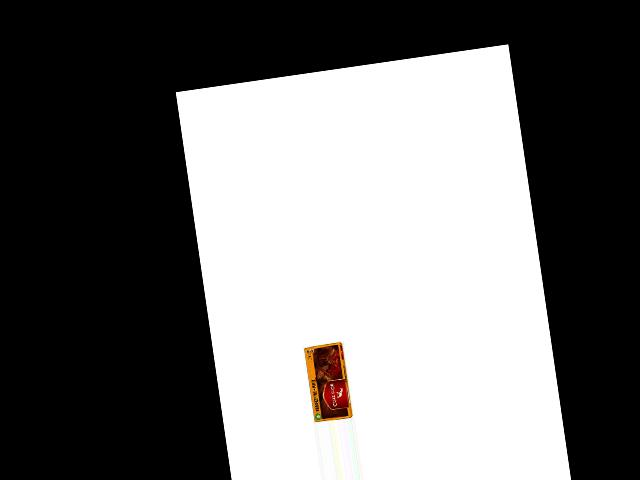chocolate: (297, 340, 354, 423)
